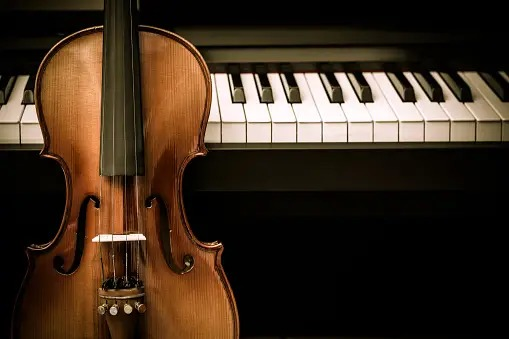Piano: (7, 1, 499, 183)
Violin: (1, 1, 271, 336)
